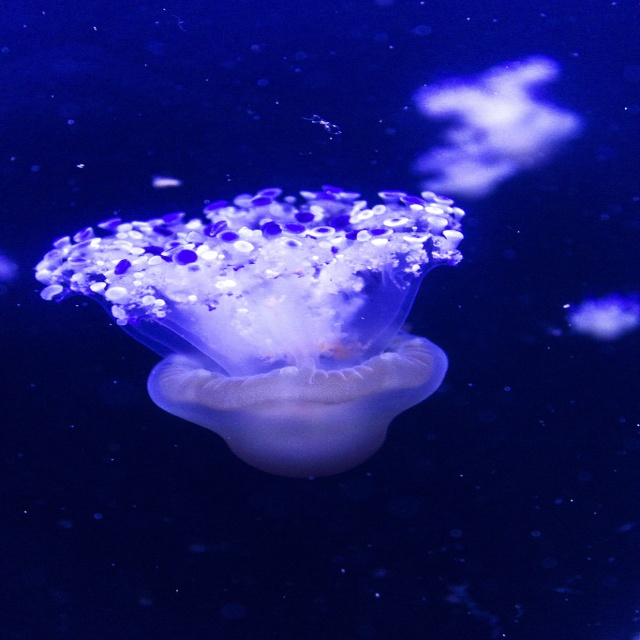Jellyfish: (31, 171, 474, 470)
